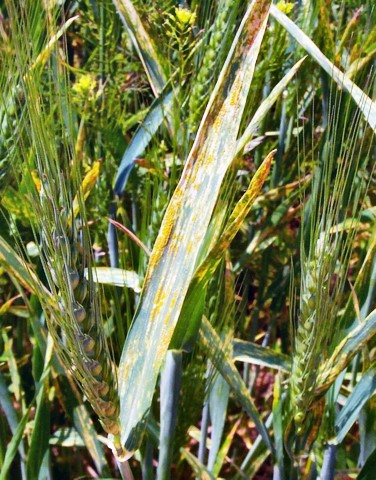Leaf Rust: (154, 12, 267, 269)
